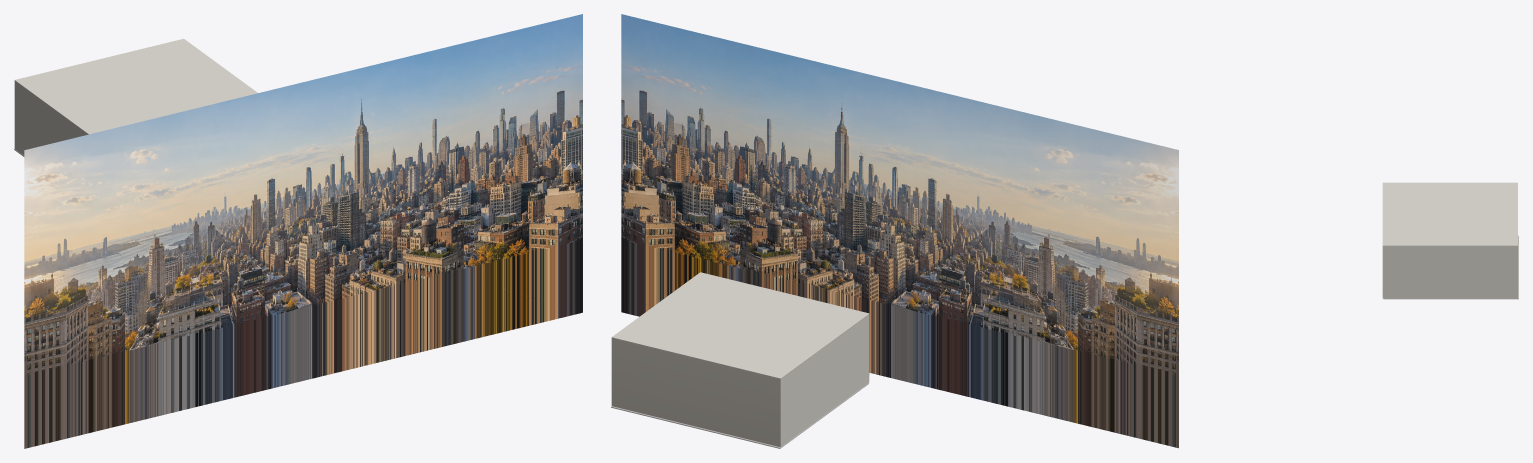
File: nyc-apartment.glb
3 views of the same model, side by side, from view 1: azimuth 30°, elevation 25°; view 2: azimuth 150°, elevation 25°; view 3: azimuth 270°, elevation 25° (orthographic). The views are drawn at different scales.
Bounding box in the file's own units: 56.75 × 29 × 36.03.
50 materials, 3 textured.
